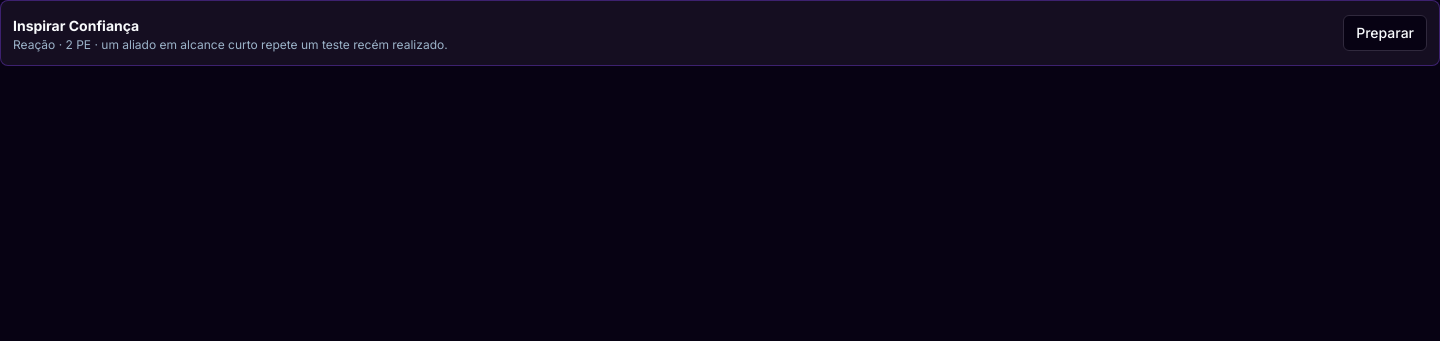
Inspirar Confiança › impede custo sem saldo
Click the button "Preparar" at (1385, 33), box x1=1343 y1=15 x2=1427 y2=51
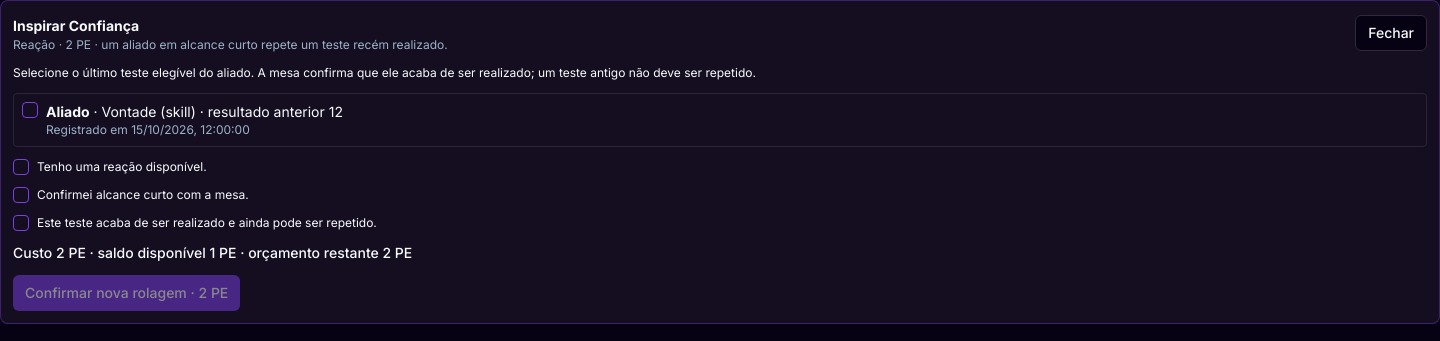
Expected: the checkbox named "Selecionar teste de Aliado" is shown, x1=22 y1=102 x2=38 y2=118
Expected: the button "Confirmar nova rolagem · 2 PE" is disabled, x1=13 y1=275 x2=240 y2=311
